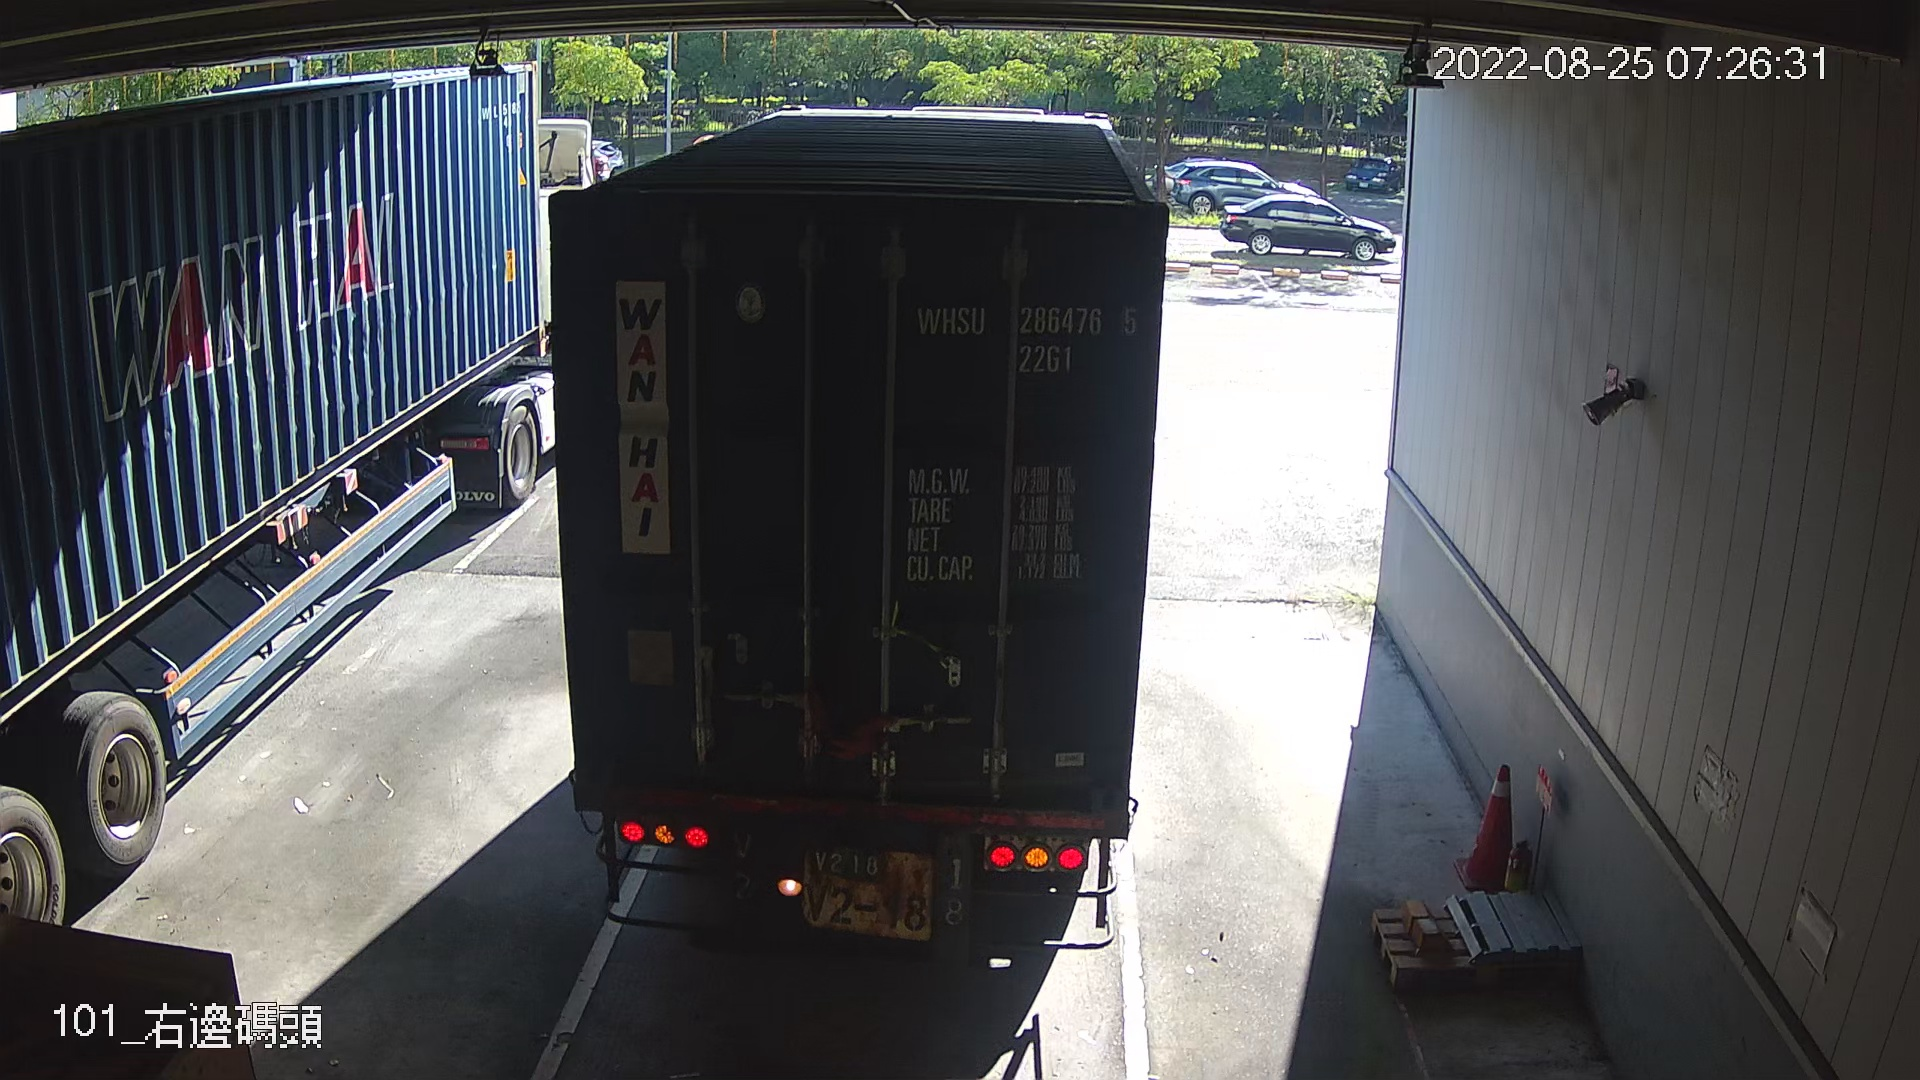container: (903, 289, 1145, 382)
